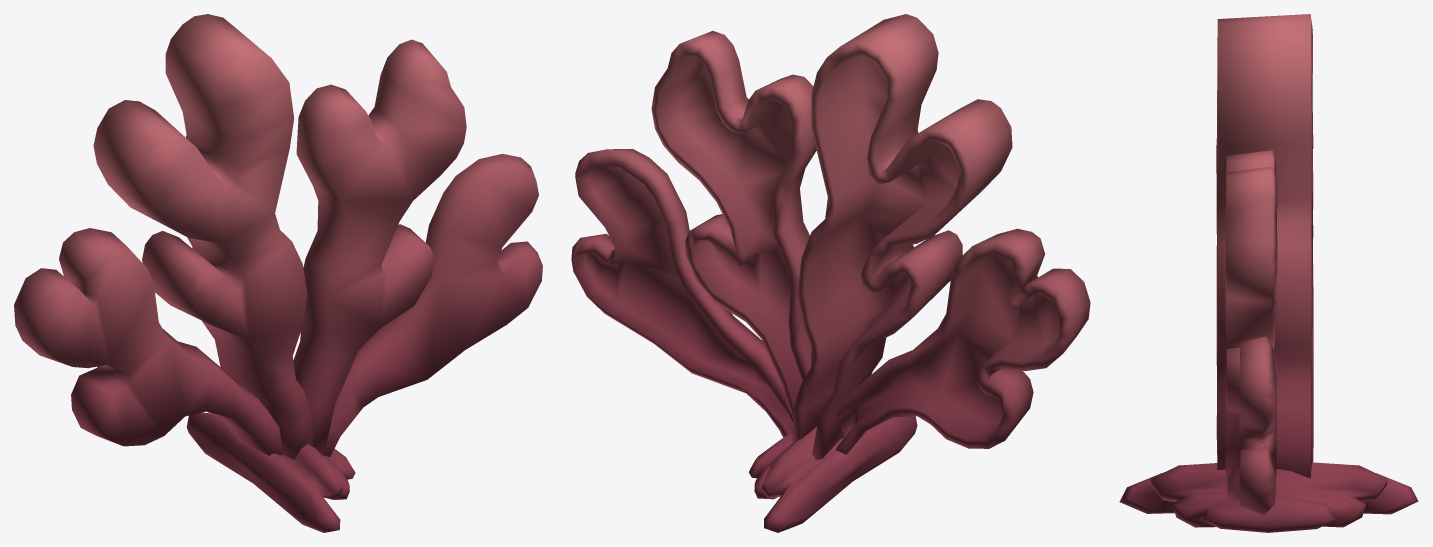
The model's file is seaweed_red.fbx.
3 renders of one model, left to right at view 1: azimuth 30°, elevation 25°; view 2: azimuth 150°, elevation 25°; view 3: azimuth 270°, elevation 25°, orthographic.
Visible parts, largest first — view 1: seaweed_red; view 2: seaweed_red; view 3: seaweed_red.
Part boxes in pixels (x1,y1,x2,y2): seaweed_red: [14, 14, 542, 532]; seaweed_red: [571, 14, 1090, 532]; seaweed_red: [1119, 14, 1418, 532].
Bounding box in the file's own units: 0.4 × 0.35 × 0.2.
Materials: 1 (1 with a texture image).
